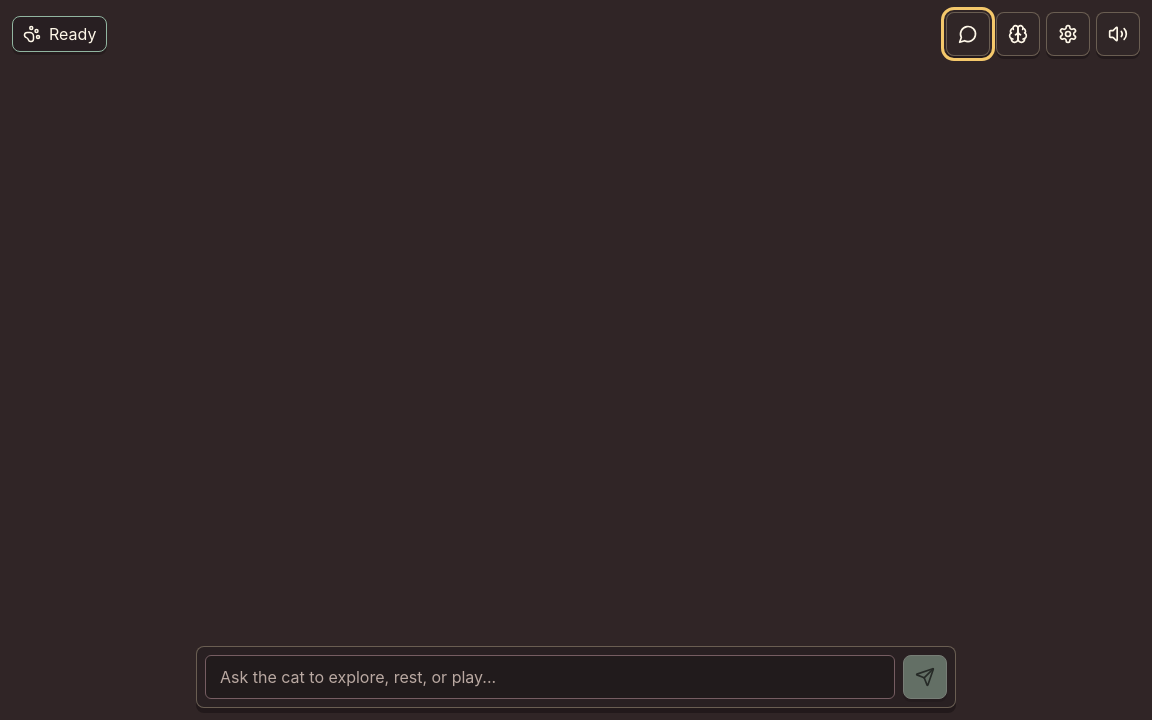
it: natural language game interface › opens drawers, renders conversation and memory details, and returns focus
Expected: the text "Ready" is shown, [49,24,96,44]
Click the button named "Open conversation" at coordinates (968, 34), box [946,12,990,56]
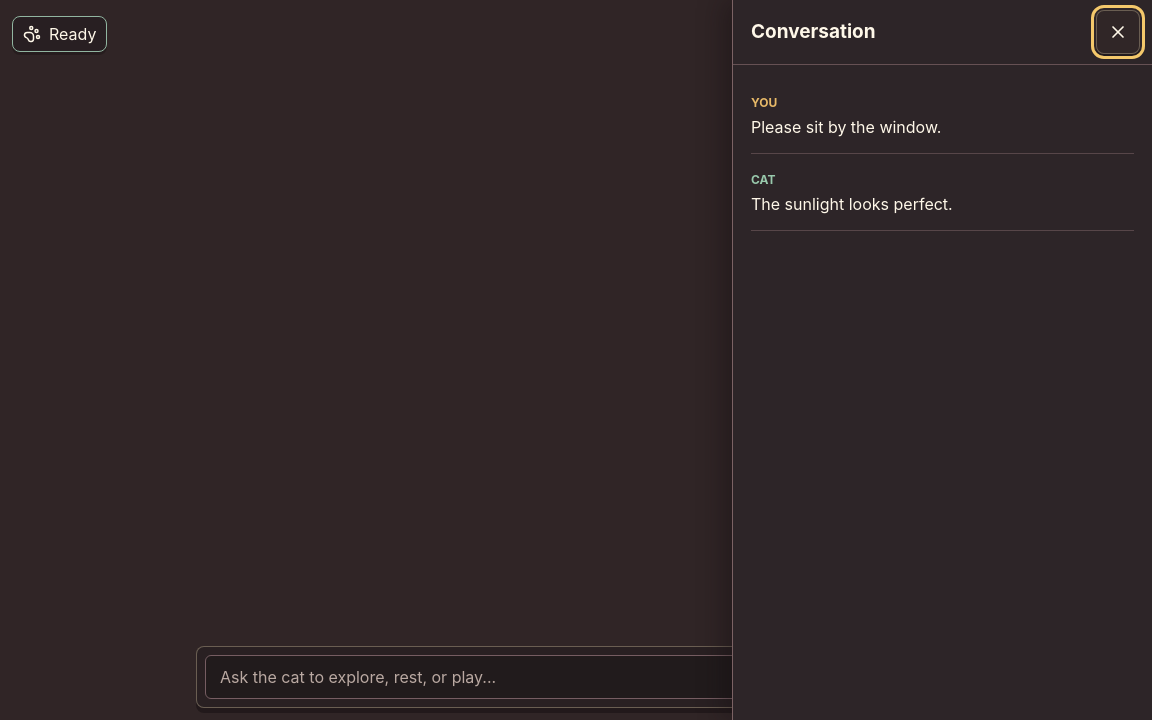
Result: the text "Please sit by the window." is shown at [751,117,941,137]
Result: the text "The sunlight looks perfect." is shown at [751,194,953,214]
Press Escape
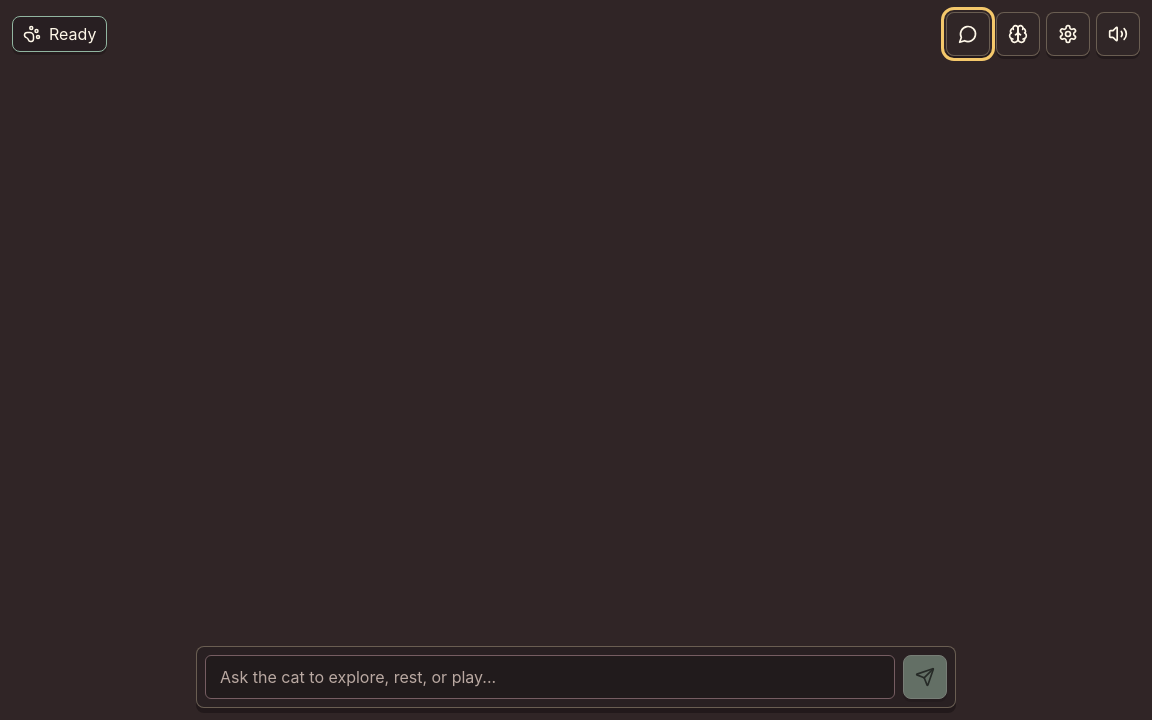
Click the button named "Open memories" at coordinates (1018, 34), box [996,12,1040,56]
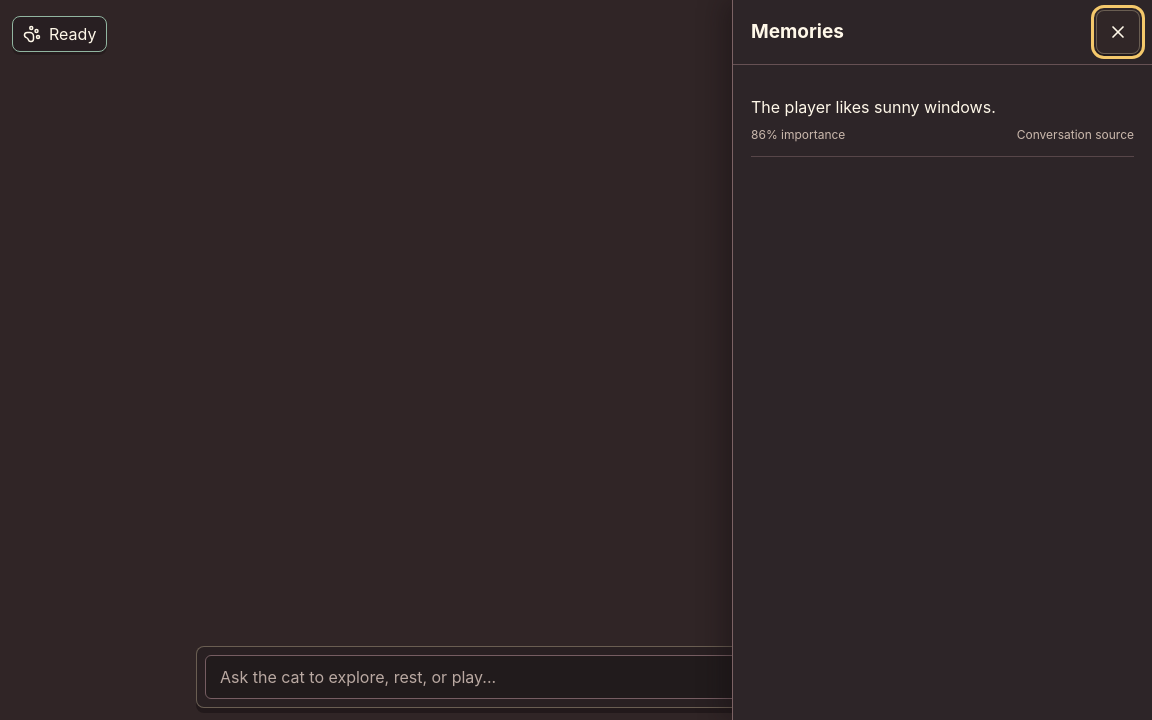
Result: the text "The player likes sunny windows." is shown at [751,97,996,117]
Result: the text "86% importance" is shown at [751,127,845,142]
Result: the text "Conversation source" is shown at [1017,127,1134,142]
